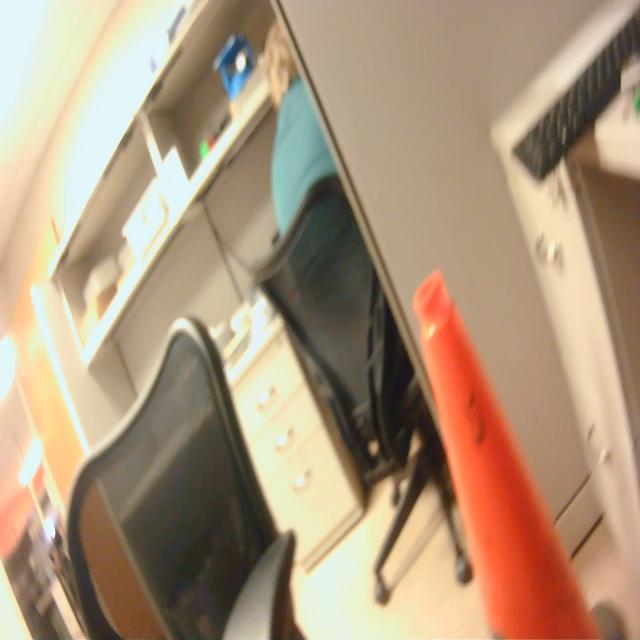traffic cone: (407, 262, 632, 640)
